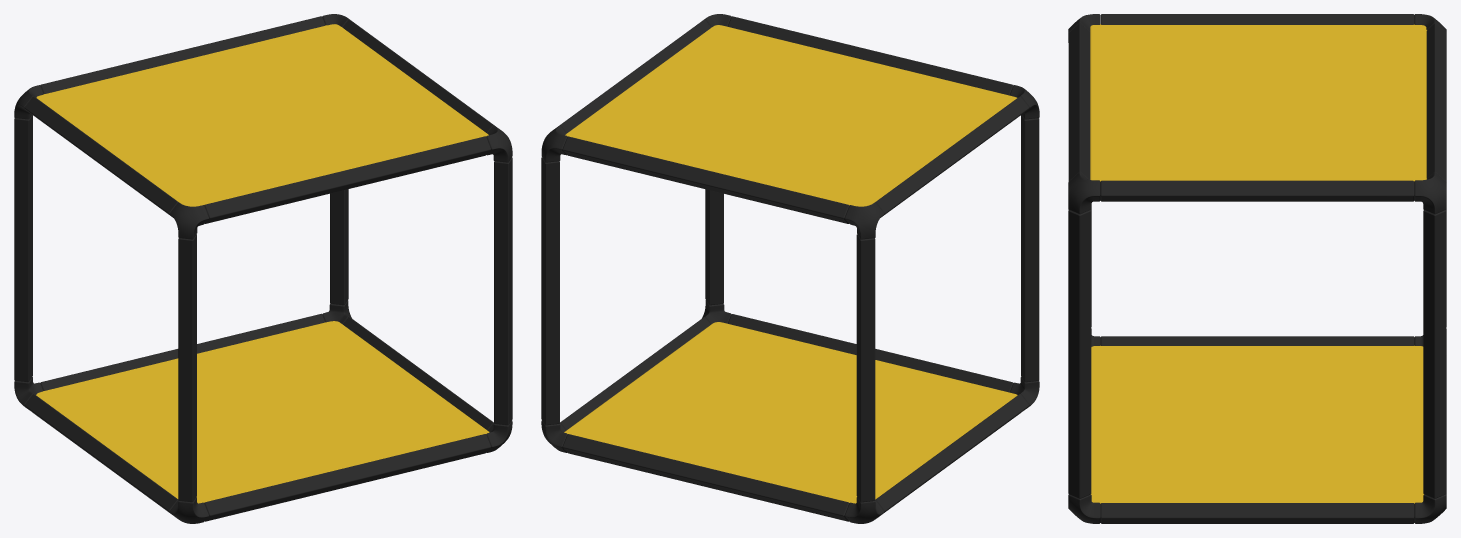
The picture shows the model from 3 angles, left to right: view 1: azimuth 30°, elevation 25°; view 2: azimuth 150°, elevation 25°; view 3: azimuth 270°, elevation 25°; orthographic projection. The views are drawn at different scales.
Parts seen in each view (by area): view 1: 420x374x374; view 2: 420x374x374; view 3: 420x374x374.
Part boxes in pixels (box(x1,y1,x2,y2)): 420x374x374: box(14, 14, 512, 523); 420x374x374: box(541, 14, 1039, 523); 420x374x374: box(1068, 14, 1446, 523).
Size of the model in its own units: 0.4977 by 0.4518 by 0.4513.
